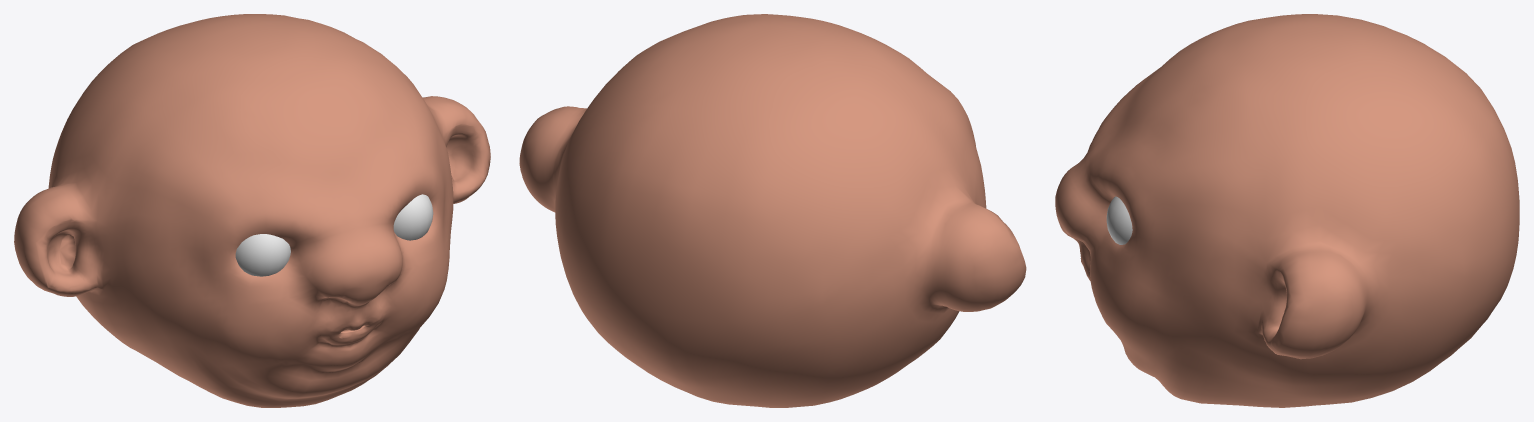
Rendered from BasisCharacter_V2.fbx.
3 views of the same model, side by side, from view 1: azimuth 30°, elevation 25°; view 2: azimuth 150°, elevation 25°; view 3: azimuth 270°, elevation 25° (orthographic). The views are drawn at different scales.
Parts seen in each view (by area): view 1: Retopo, Oogballen; view 2: Retopo; view 3: Retopo, Oogballen.
Part boxes in pixels (x1,y1,x2,y2): Retopo: (14,14,490,407); Oogballen: (235,194,433,276); Retopo: (519,14,1026,407); Retopo: (1055,14,1519,407); Oogballen: (1106,196,1132,244).
Size of the model in its own units: 258 by 176 by 213.
